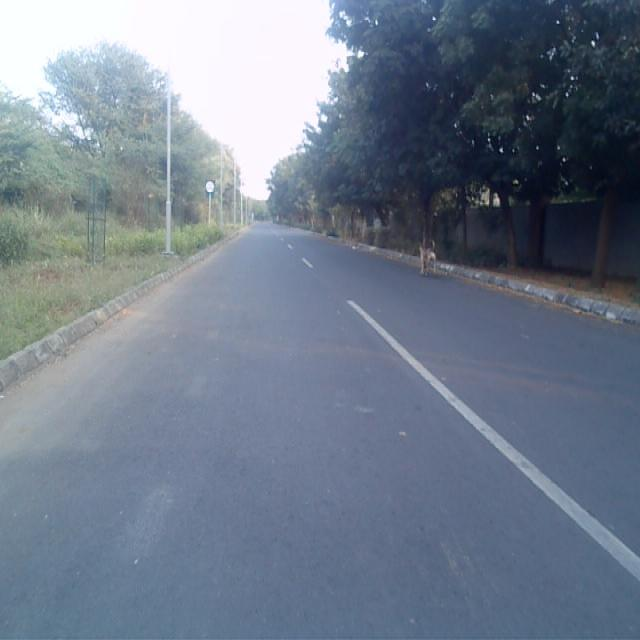lane: (0, 226, 640, 640)
